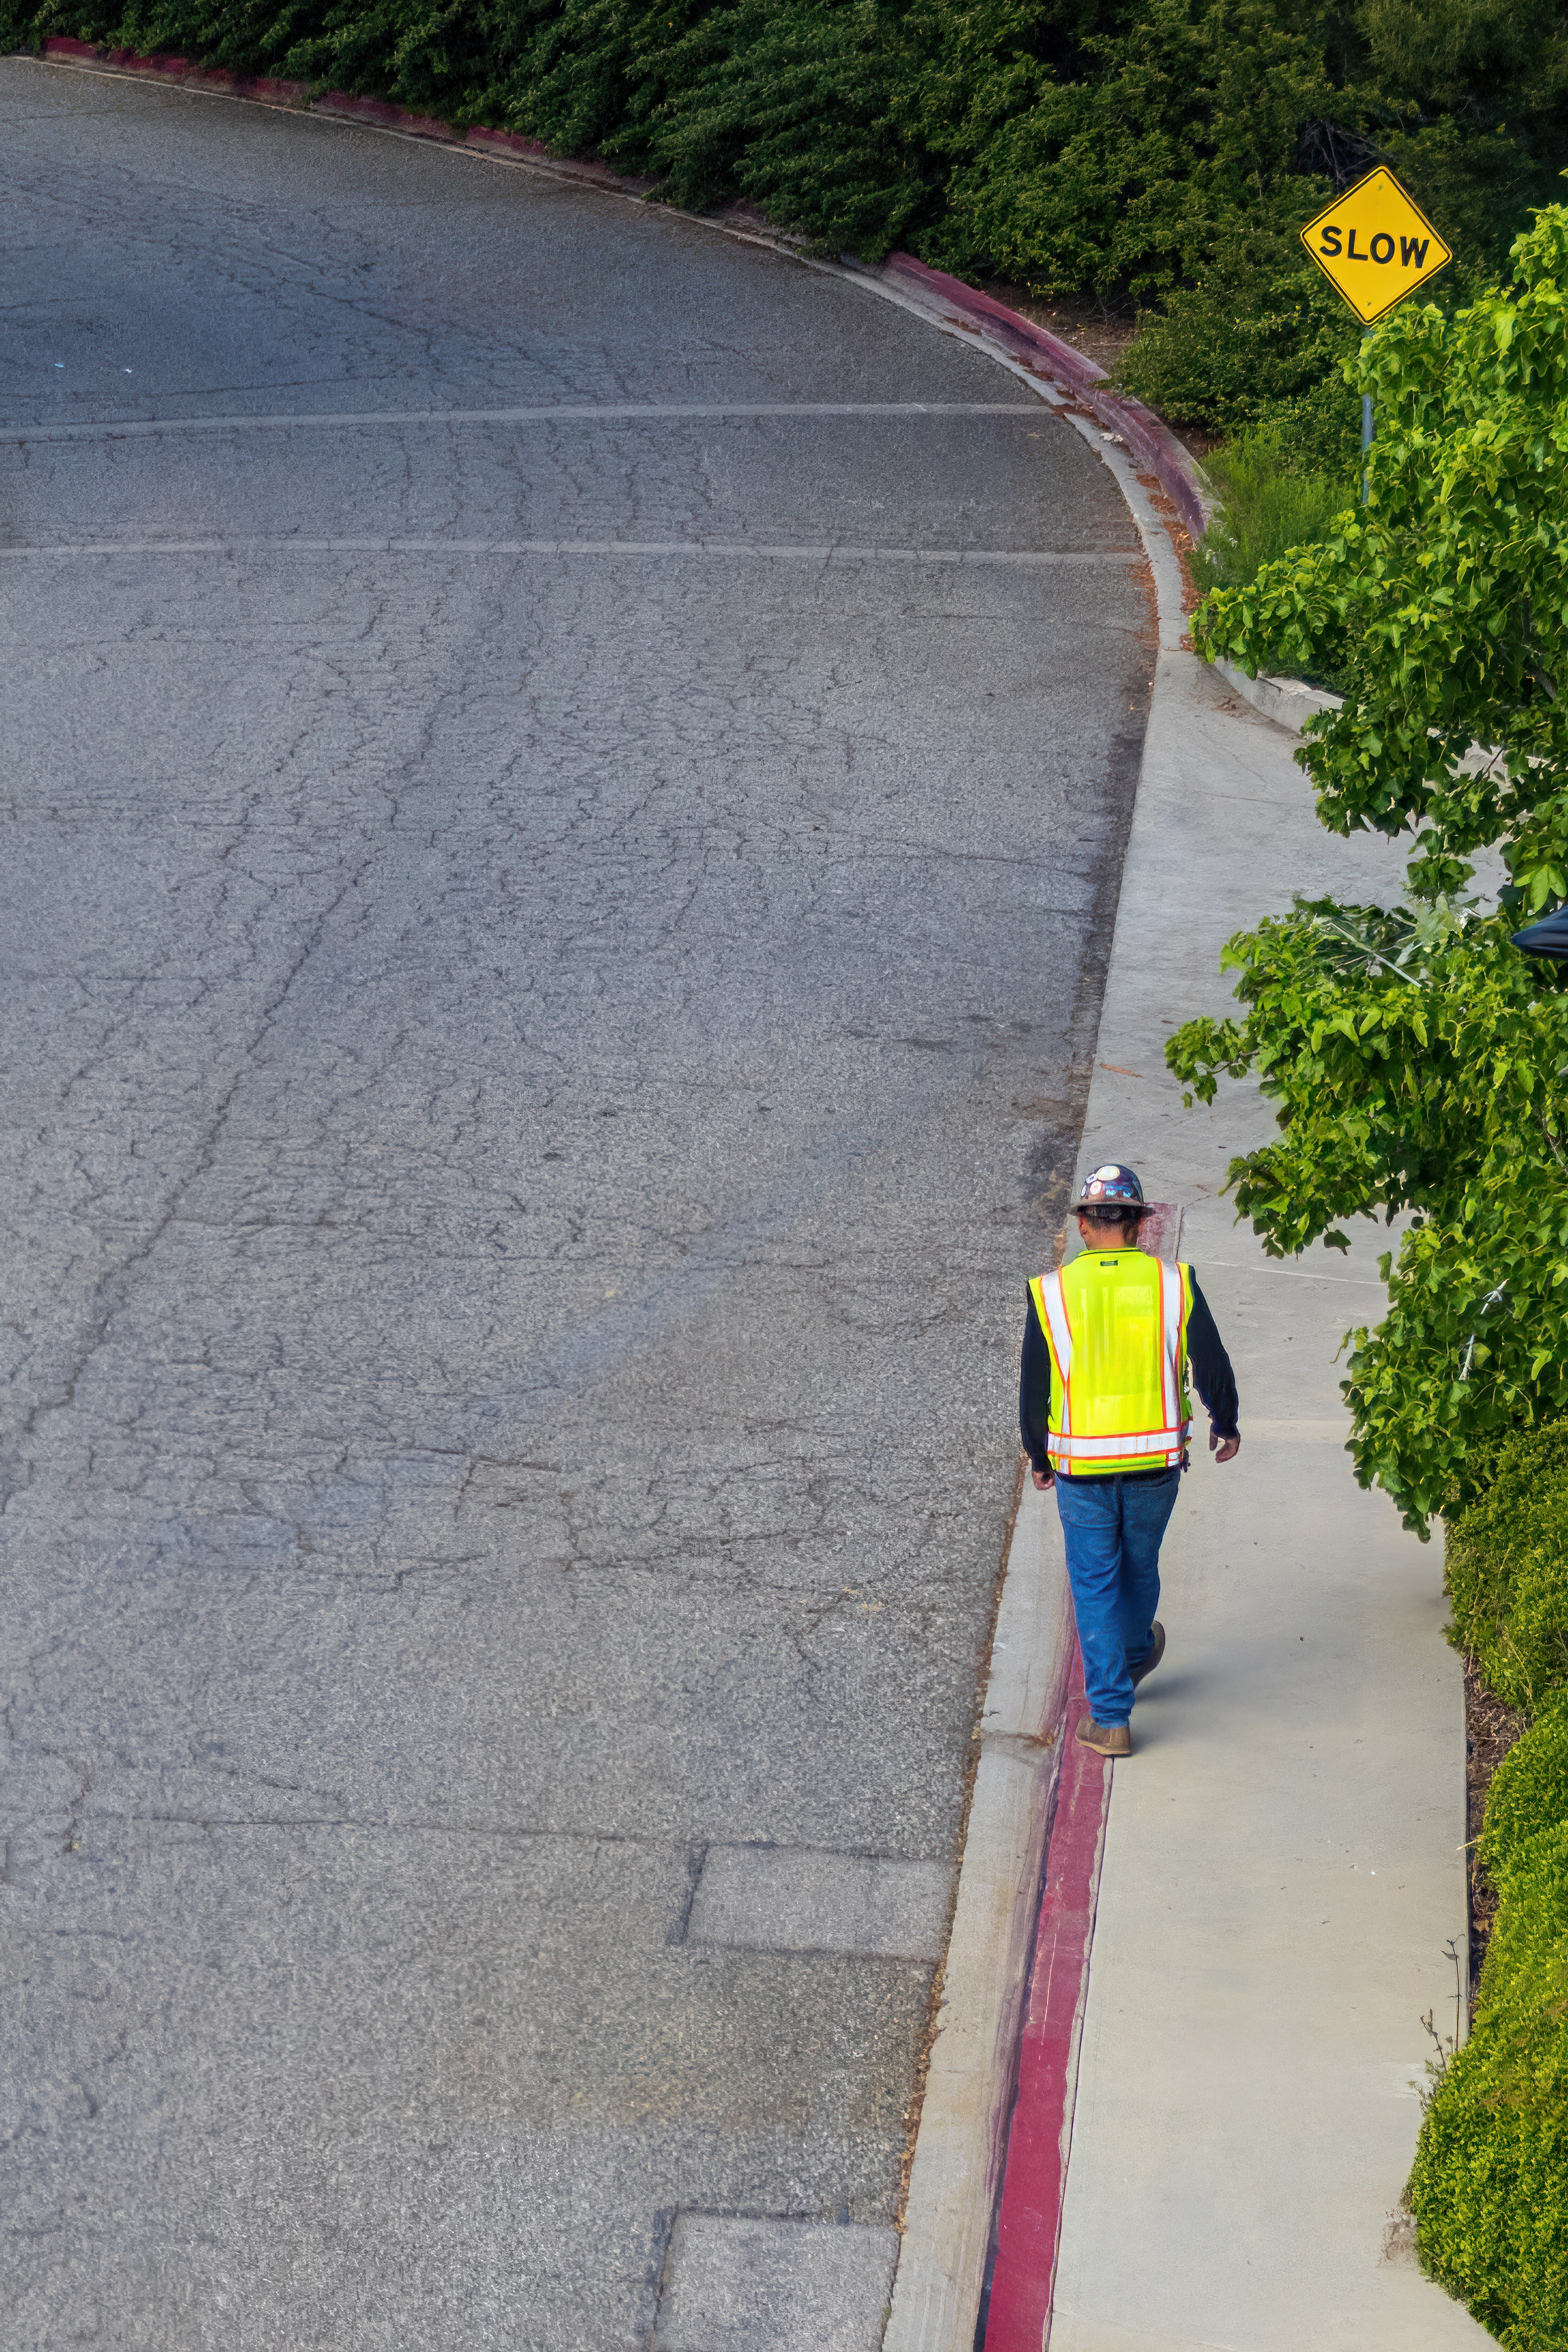Helmet: (1048, 1148, 1171, 1272)
Reflective vest: (1020, 1248, 1202, 1489)
